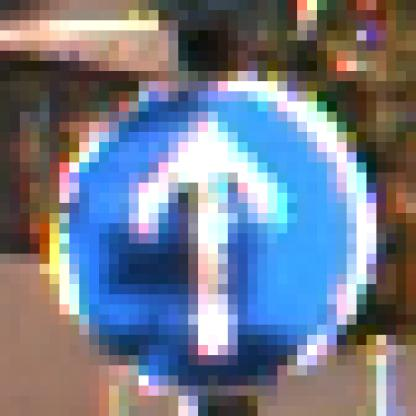AheadOnly: (51, 62, 358, 366)
